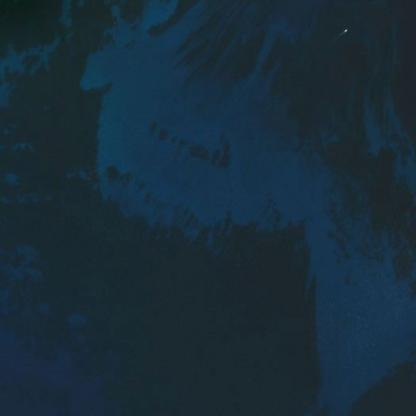ship: (341, 26, 348, 32)
